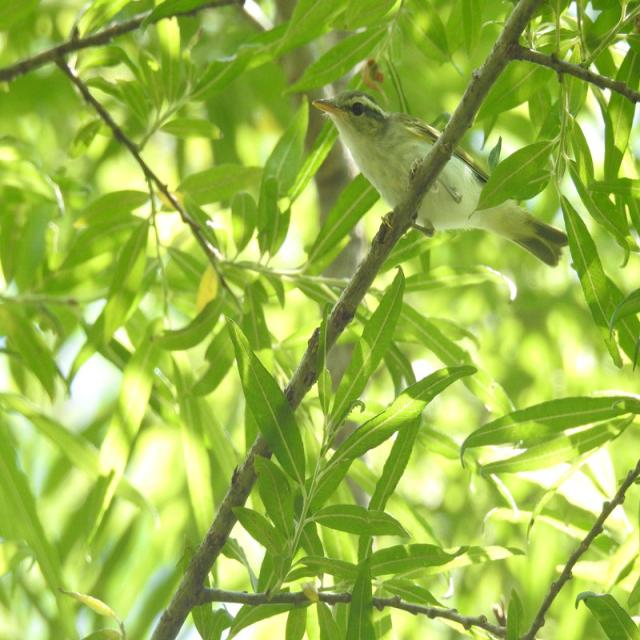bird: (309, 73, 572, 268)
